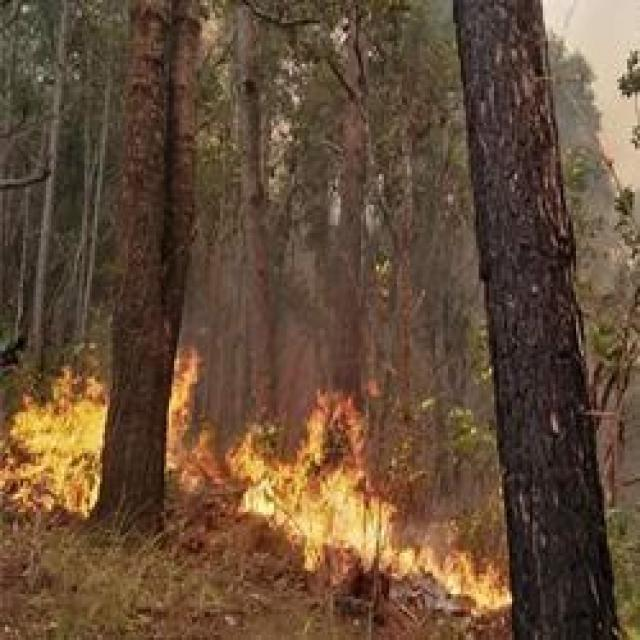fire: (232, 425, 414, 572), (20, 401, 105, 503), (450, 556, 508, 616)
